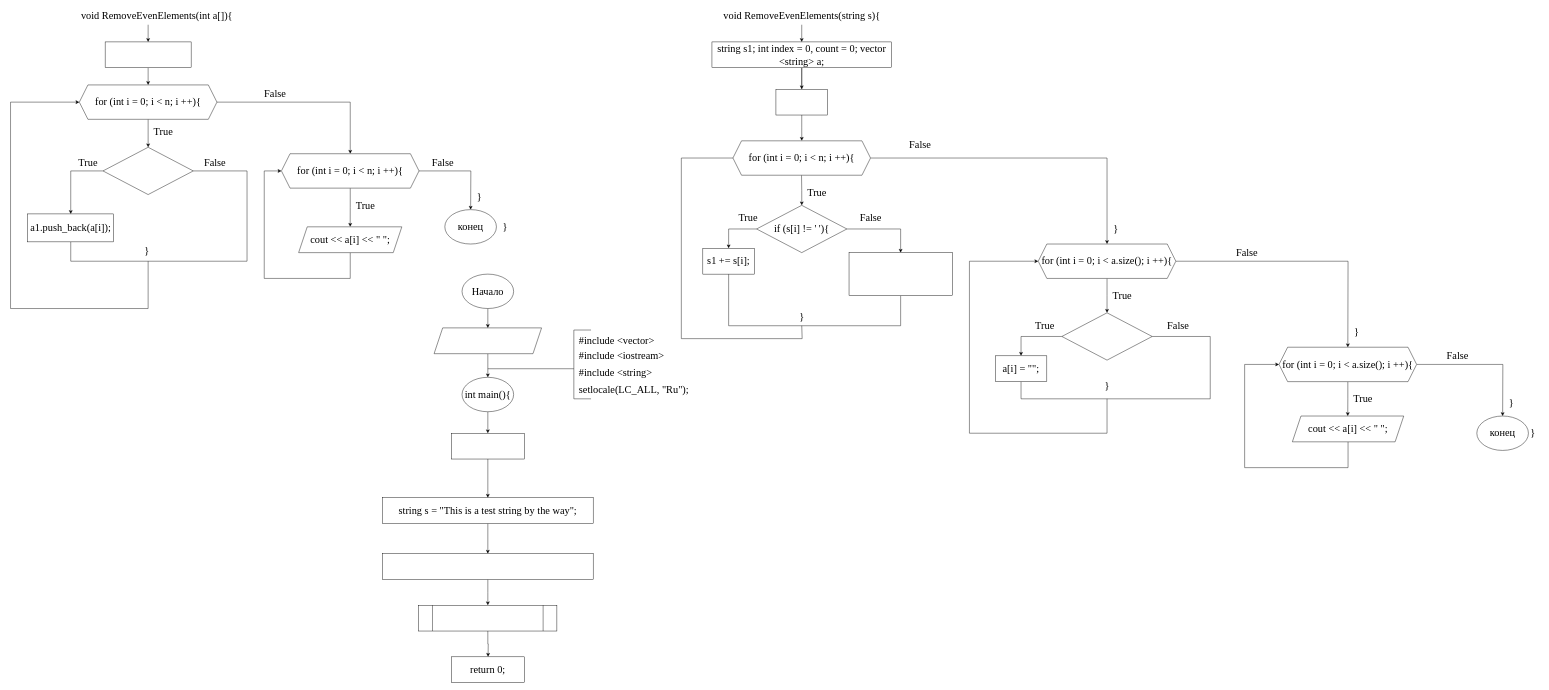
This 1549x690 diagram has some shape labels left out. Here are the shapes that lost their labels. From the top down, the box of each, then its label:
(105, 41, 191, 68): vector <int> a1;
(776, 89, 828, 115): s = s + " ";
(103, 147, 193, 195): if (i % 2 == 0){
(849, 252, 952, 296): a.push_back(s1); index ++; s1 = "";
(434, 327, 542, 354): using namespace std;
(1061, 312, 1152, 360): if (i % 2 != 0){
(451, 433, 524, 459): const int n = 5;
(382, 553, 593, 579): int a[5] = {3, 4, 42, 34, 55};
(418, 605, 557, 631): RemoveEvenElements(a); RemoveEvenElements(s);
